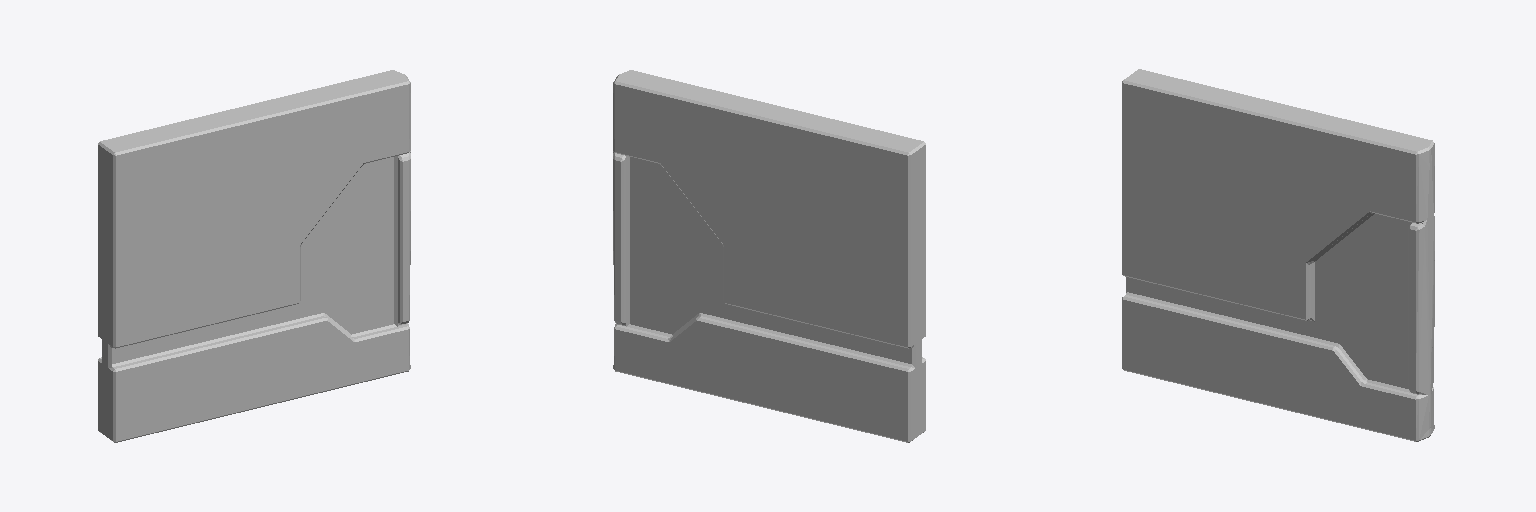
File: Door.obj
The picture shows the model from 3 angles: view 1: azimuth 30°, elevation 25°; view 2: azimuth 150°, elevation 25°; view 3: azimuth 330°, elevation 25°; orthographic projection.
Visible parts, largest first — view 1: Door_Cube.001; view 2: Door_Cube.001; view 3: Door_Cube.001.
Part boxes in pixels (bbox=[...]): Door_Cube.001: bbox=[98, 70, 410, 442]; Door_Cube.001: bbox=[613, 70, 925, 442]; Door_Cube.001: bbox=[1122, 69, 1434, 441].
Bounding box in the file's own units: 9.13 × 8.41 × 0.9277.